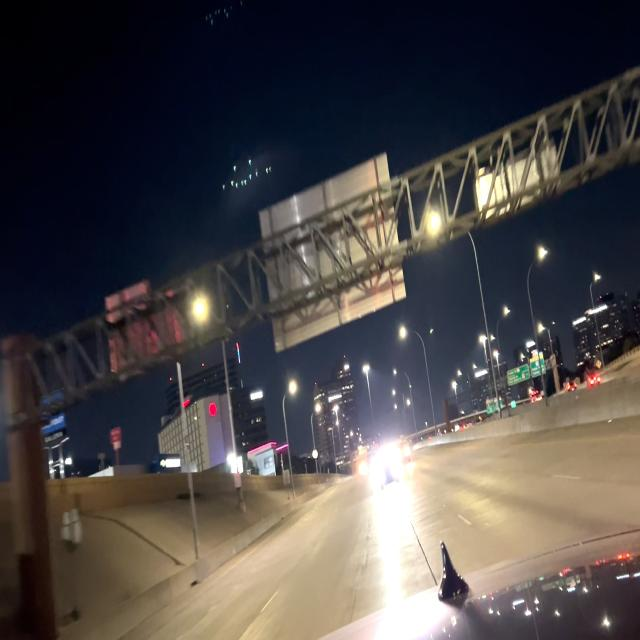back-of-sign: (260, 151, 407, 355), (104, 270, 222, 381), (473, 140, 563, 217), (60, 503, 83, 554), (281, 466, 291, 491)
